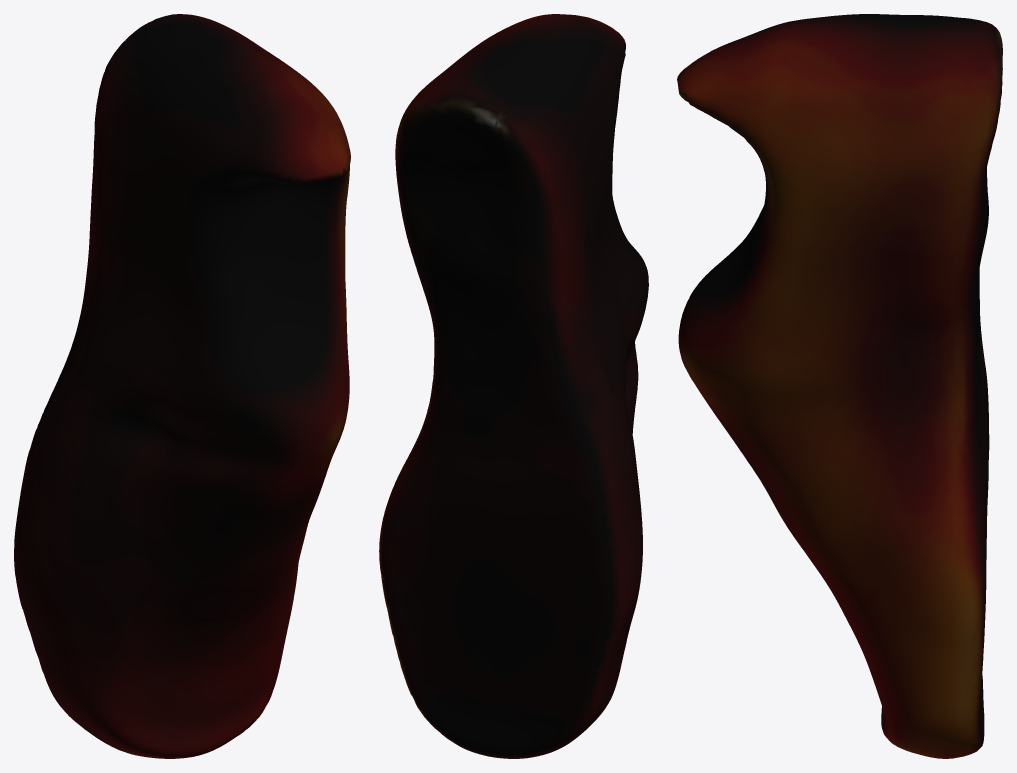
The model's file is shoe3.glb.
3 views of the same model, side by side, from view 1: azimuth 30°, elevation 25°; view 2: azimuth 150°, elevation 25°; view 3: azimuth 270°, elevation 25° (orthographic). The views are drawn at different scales.
Size of the model in its own units: 0.3833 by 0.9998 by 0.4019.
